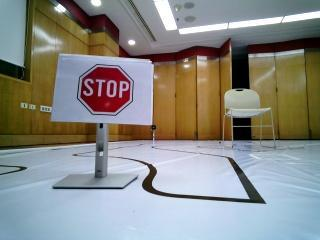stop: (58, 52, 149, 124)
